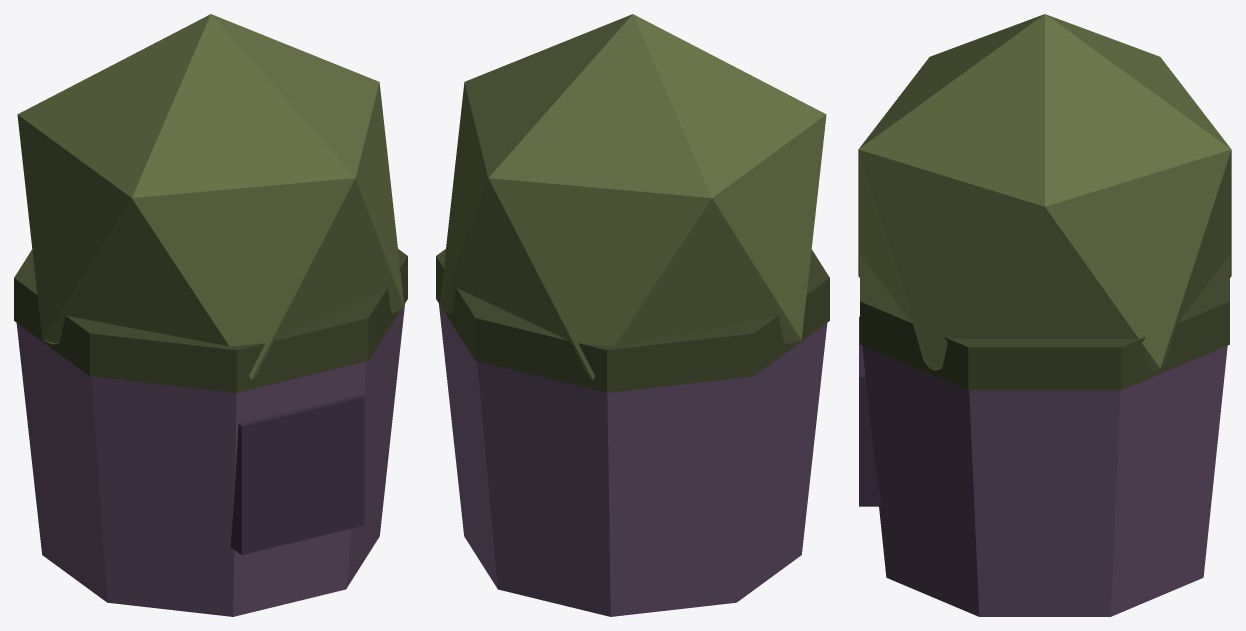
The model's file is inf_brute_upper_arm.fbx.
The picture shows the model from 3 angles, left to right: view 1: azimuth 30°, elevation 25°; view 2: azimuth 150°, elevation 25°; view 3: azimuth 270°, elevation 25°; orthographic projection.
Visible parts, largest first — view 1: inf_brute_upper_arm; view 2: inf_brute_upper_arm; view 3: inf_brute_upper_arm.
Part boxes in pixels (x1=…): inf_brute_upper_arm: x1=14, y1=14, x2=407, y2=616; inf_brute_upper_arm: x1=436, y1=14, x2=829, y2=616; inf_brute_upper_arm: x1=858, y1=14, x2=1231, y2=616.
Size of the model in its own units: 82.29 by 124 by 78.26.
